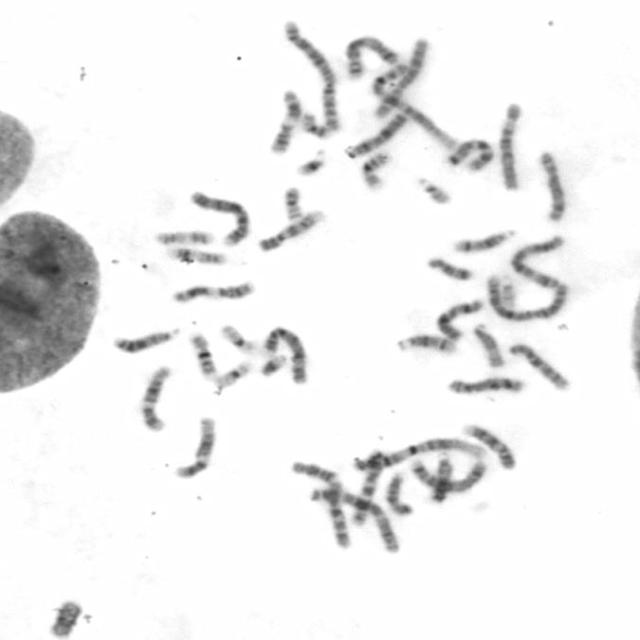A1: (370, 62, 461, 151), (352, 437, 488, 472)
A2: (279, 18, 344, 132), (484, 272, 571, 323)
A3: (306, 486, 403, 555), (506, 236, 567, 290)
B4: (189, 189, 251, 247), (261, 325, 308, 385)
B5: (408, 458, 488, 494), (340, 35, 401, 81)
C10: (507, 342, 573, 393), (324, 478, 356, 550)
C11: (268, 88, 302, 157), (169, 282, 257, 304)
C12: (169, 414, 219, 482), (138, 365, 174, 437)
C6: (369, 36, 432, 122), (495, 100, 526, 194)
C7: (350, 448, 388, 529), (446, 136, 495, 173)
C8: (537, 150, 569, 221), (444, 374, 527, 396)
C9: (252, 207, 329, 255), (459, 421, 518, 470)
D13: (108, 323, 187, 357), (427, 451, 454, 503)
D14: (452, 228, 517, 253), (394, 333, 459, 356)
D15: (471, 321, 506, 368), (383, 473, 413, 516)
E16: (358, 150, 392, 190), (189, 330, 216, 377)
E17: (168, 244, 229, 266), (153, 227, 215, 246)
E18: (289, 458, 339, 483), (425, 257, 472, 281)
F19: (218, 323, 260, 358), (212, 361, 254, 389)
F20: (298, 110, 332, 140), (282, 185, 305, 222)
G21: (294, 148, 328, 178), (257, 353, 290, 378)
G22: (412, 174, 458, 208), (496, 270, 519, 312)
X: (352, 112, 409, 156), (434, 298, 484, 340)
